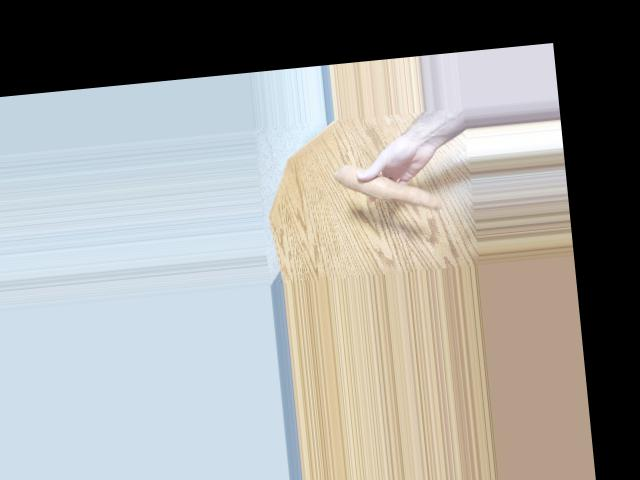sweet_potato: (330, 168, 442, 212)
